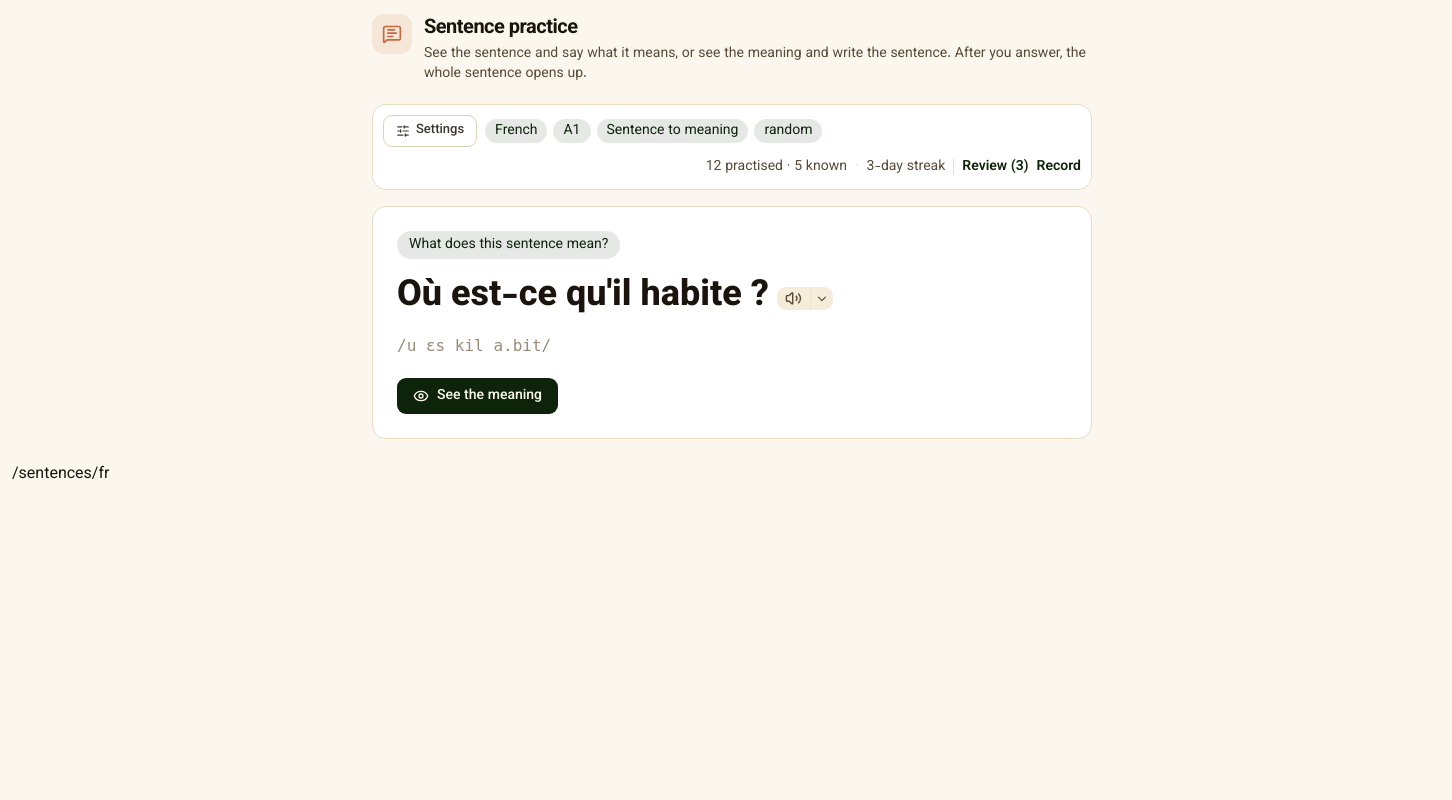
recognize, on screen › shows the sentence, hides the meaning, then opens the whole analysis after «See the meaning»
Expected: the element with test id "prompt" shows "Où est-ce qu'il habite ?", [372, 206, 1092, 438]
Expected: the element with test id "prompt" does not show "Where does he live?", [372, 206, 1092, 438]
Click the button with test id "reveal" at (478, 396), box [397, 378, 558, 414]
(page scrolled)
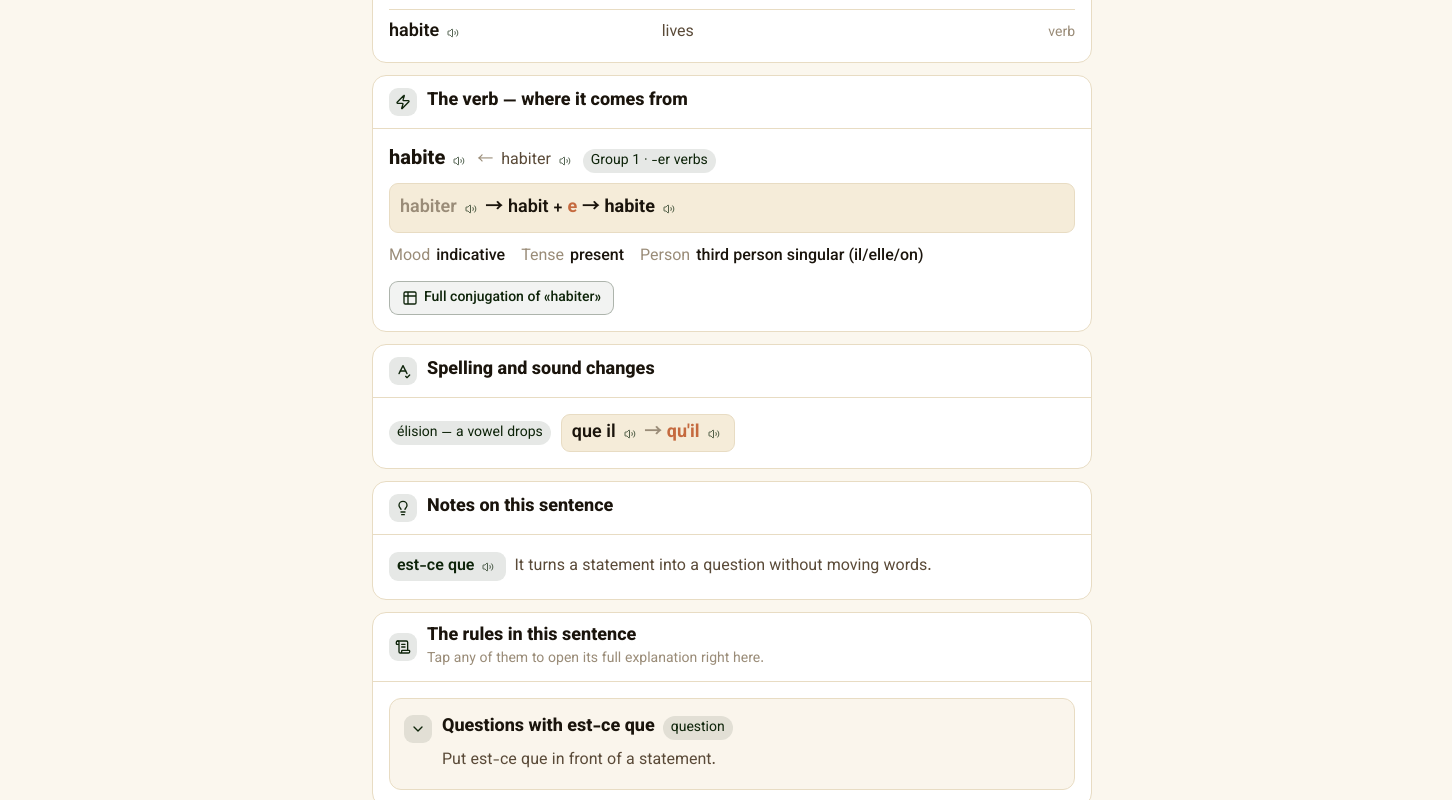
Now the element with test id "analysis" shows "habiter", box [501, 148, 551, 172]
Now the element with test id "analysis" shows "Group 1 · -er verbs", box [591, 150, 708, 172]
Now the element with test id "analysis" shows "Full conjugation of «habiter»", box [389, 280, 614, 314]
